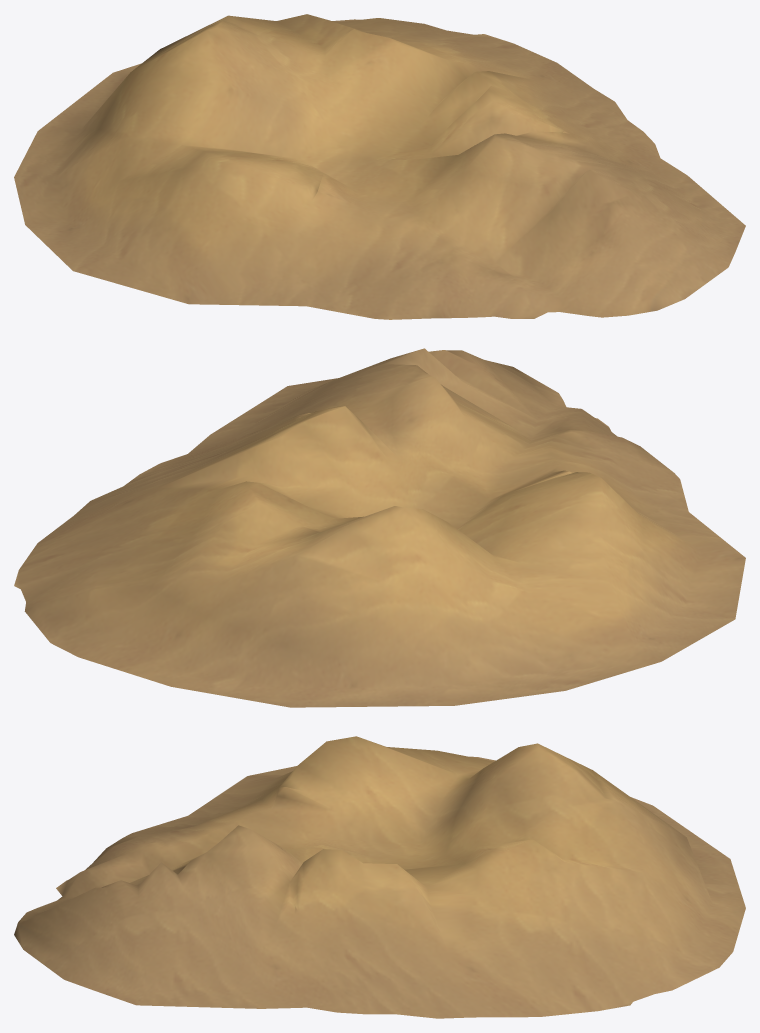
Rendered from Area_06_10.fbx.
3 renders of one model, top to bottom at view 1: azimuth 30°, elevation 25°; view 2: azimuth 150°, elevation 25°; view 3: azimuth 270°, elevation 25°, orthographic. The views are drawn at different scales.
Parts seen in each view (by area): view 1: Area_06_10; view 2: Area_06_10; view 3: Area_06_10.
Boxes of the visible parts, box(x1,y1,x2,y2) form: Area_06_10: box(14, 14, 745, 319); Area_06_10: box(14, 348, 745, 707); Area_06_10: box(14, 736, 745, 1018).
Size of the model in its own units: 1411 by 276 by 1635.
1 material, 1 textured.
